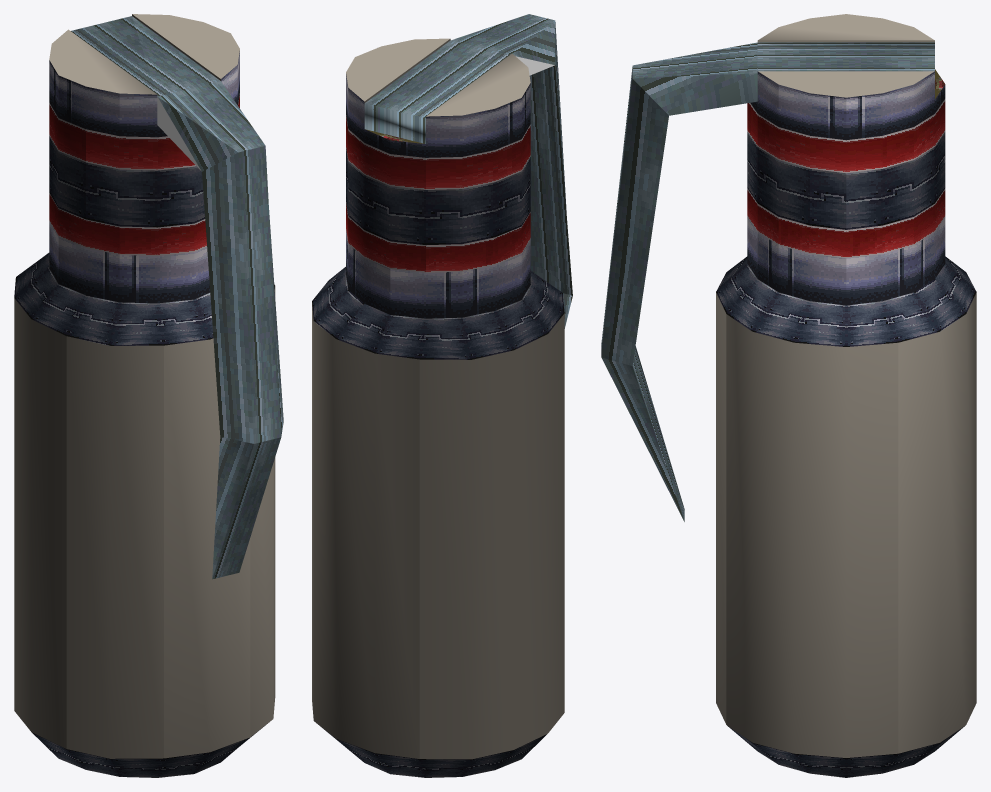
File: 1c-grenade-fp.glb
The picture shows the model from 3 angles, left to right: view 1: azimuth 30°, elevation 25°; view 2: azimuth 150°, elevation 25°; view 3: azimuth 270°, elevation 25°; orthographic projection. The views are drawn at different scales.
Visible parts, largest first — view 1: gun; view 2: gun; view 3: gun.
Boxes of the visible parts, bbox=[...] form: gun: bbox=[14, 14, 283, 777]; gun: bbox=[312, 14, 572, 777]; gun: bbox=[601, 14, 976, 777].
Size of the model in its own units: 60.1 by 173 by 86.54.
Materials: 7 (7 with a texture image).
